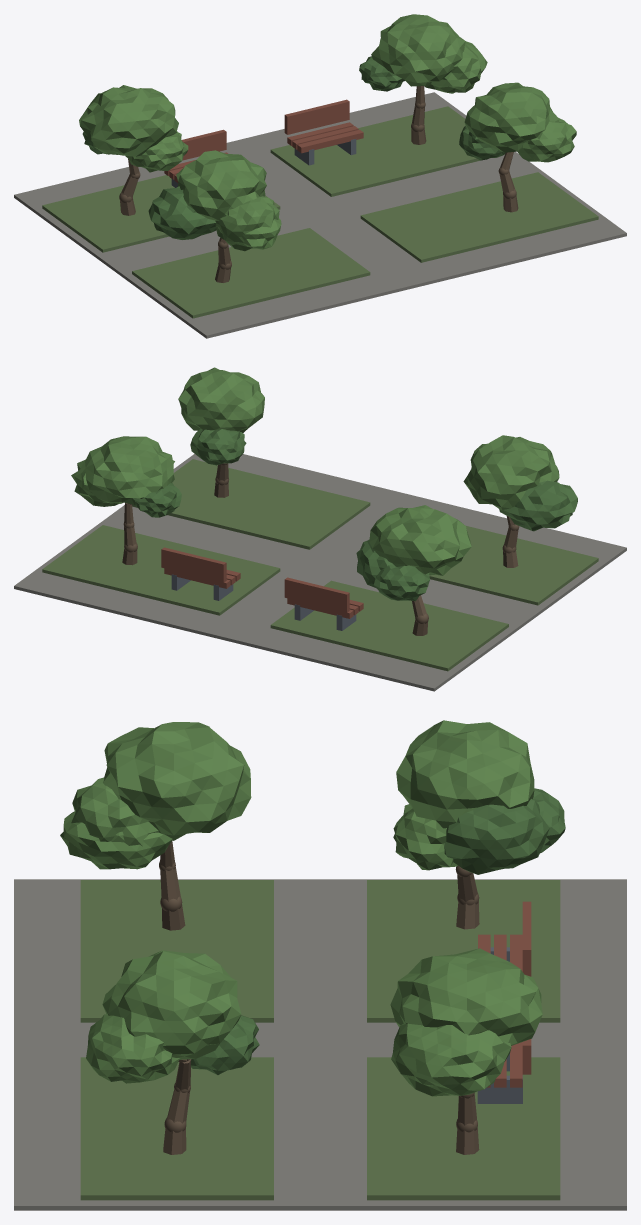
Rendered from civic_park_lvl1.glb.
The picture shows the model from 3 angles, top to bottom: view 1: azimuth 30°, elevation 25°; view 2: azimuth 150°, elevation 25°; view 3: azimuth 270°, elevation 25°; orthographic projection. The views are drawn at different scales.
Parts seen in each view (by area): view 1: civic_park; view 2: civic_park; view 3: civic_park.
Part boxes in pixels (x1,y1,x2,y2): civic_park: (14,14,626,338); civic_park: (14,367,626,691); civic_park: (14,720,626,1210).
Size of the model in its own units: 1 by 0.2952 by 0.7904.
